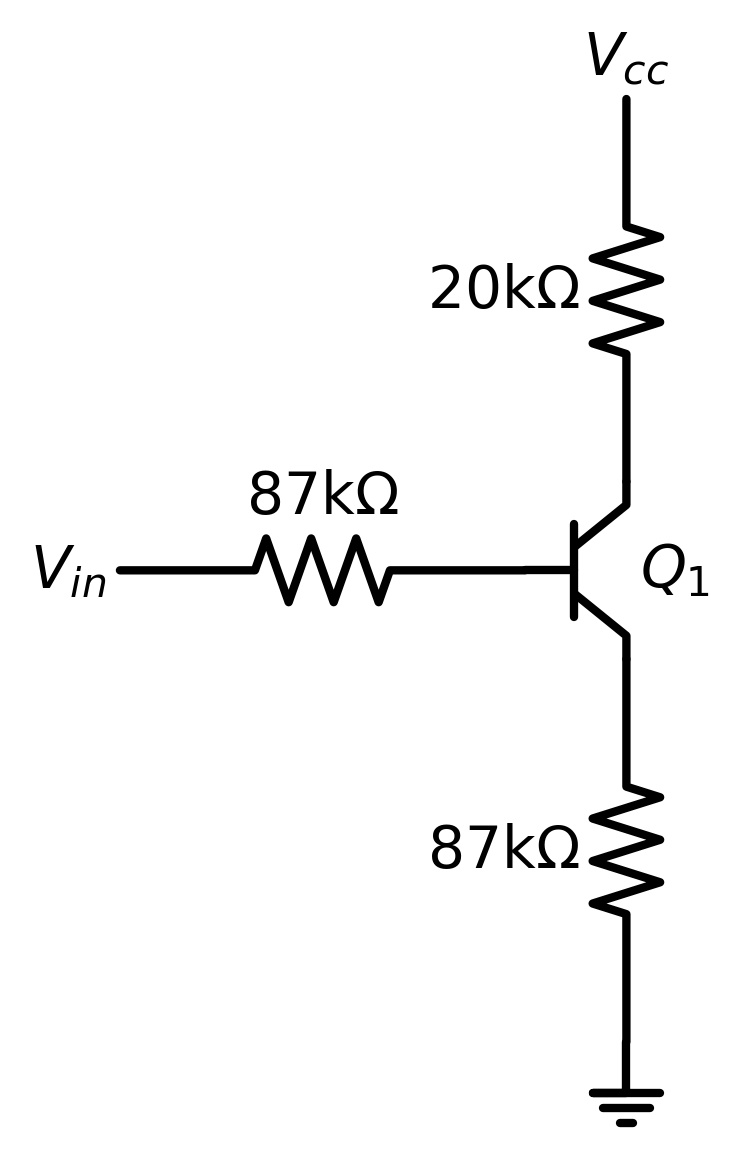bjt: (553, 475, 641, 665)
ground: (578, 1071, 675, 1139)
resistor: (577, 208, 694, 385), (233, 524, 423, 624), (582, 767, 686, 940)
